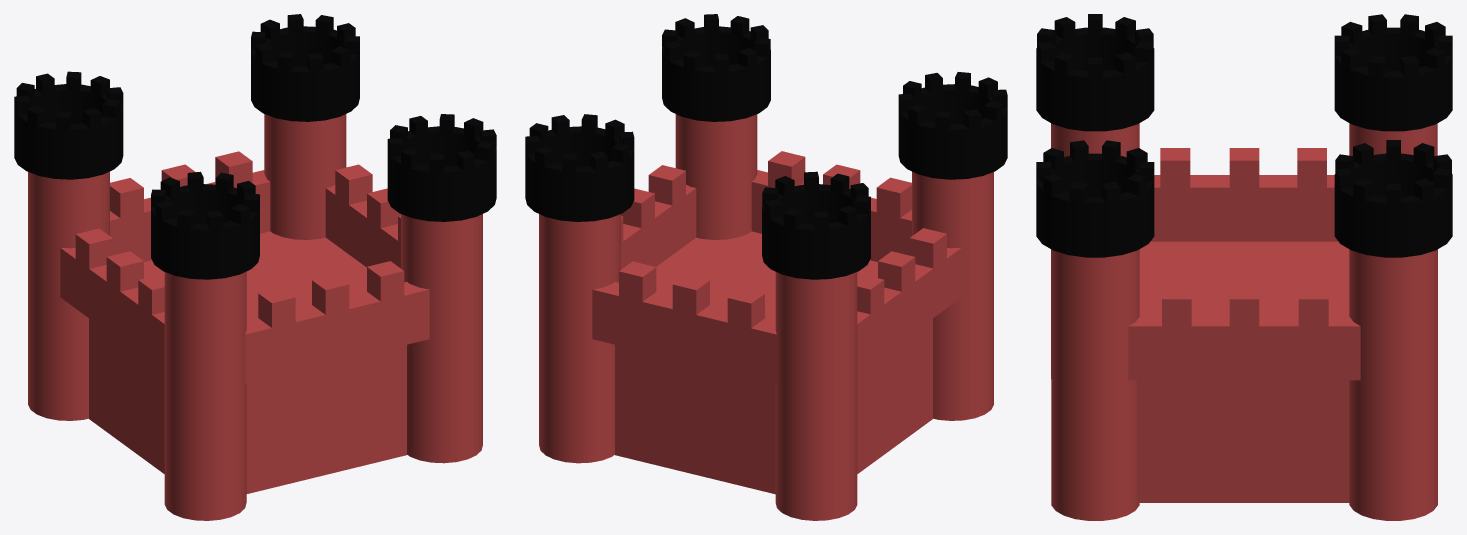
The model's file is castle.fbx.
The picture shows the model from 3 angles, left to right: view 1: azimuth 30°, elevation 25°; view 2: azimuth 150°, elevation 25°; view 3: azimuth 270°, elevation 25°; orthographic projection. The views are drawn at different scales.
Visible parts, largest first — view 1: TowerBase (×4), castleBase, upperWallTower (×4), upperWall (×4), brick4 (×4), brick3 (×3), brick1 (×3); view 2: TowerBase (×4), castleBase, upperWallTower (×4), upperWall (×4), brick3 (×4), brick4 (×3), brick1 (×3); view 3: TowerBase (×4), castleBase, upperWallTower (×4), upperWall (×2), brick4 (×2), brick1 (×2), brick3 (×2).
Part boxes in pixels (x1,y1,x2,y2): TowerBase (×4): (28, 114, 482, 520); castleBase: (89, 231, 406, 493); upperWallTower (×4): (14, 26, 496, 279); upperWall (×4): (60, 170, 429, 383); brick4 (×4): (110, 164, 404, 314); brick3 (×3): (75, 151, 295, 327); brick1 (×3): (106, 188, 400, 314); TowerBase (×4): (539, 114, 993, 520); castleBase: (615, 231, 932, 494); upperWallTower (×4): (525, 26, 1007, 279); upperWall (×4): (592, 170, 961, 383); brick3 (×4): (619, 165, 911, 314); brick4 (×3): (727, 151, 946, 328); brick1 (×3): (621, 188, 915, 314); TowerBase (×4): (1051, 123, 1437, 520); castleBase: (1139, 241, 1349, 502); upperWallTower (×4): (1036, 27, 1452, 257); upperWall (×2): (1128, 175, 1360, 380); brick4 (×2): (1160, 148, 1328, 326); brick1 (×2): (1229, 148, 1259, 326); brick3 (×2): (1162, 148, 1326, 326).
Bounding box in the file's own units: 13.96 × 12.5 × 13.96.
